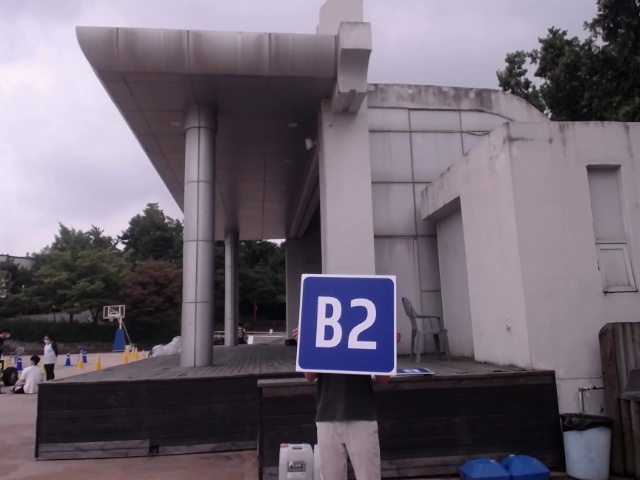delivery_b2: (296, 275, 395, 373)
